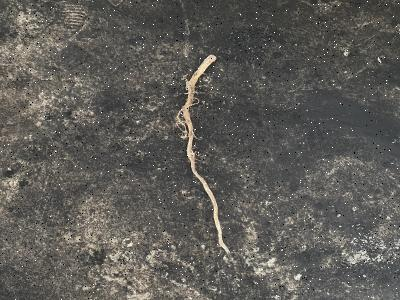Root: (176, 55, 229, 253)
